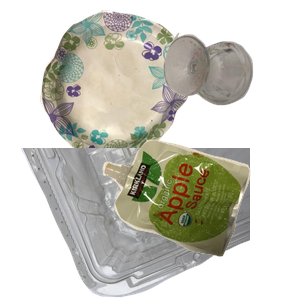glass: (161, 30, 300, 128)
paper: (37, 10, 219, 167)
plastic: (19, 148, 259, 300)
trash: (100, 137, 300, 300)
